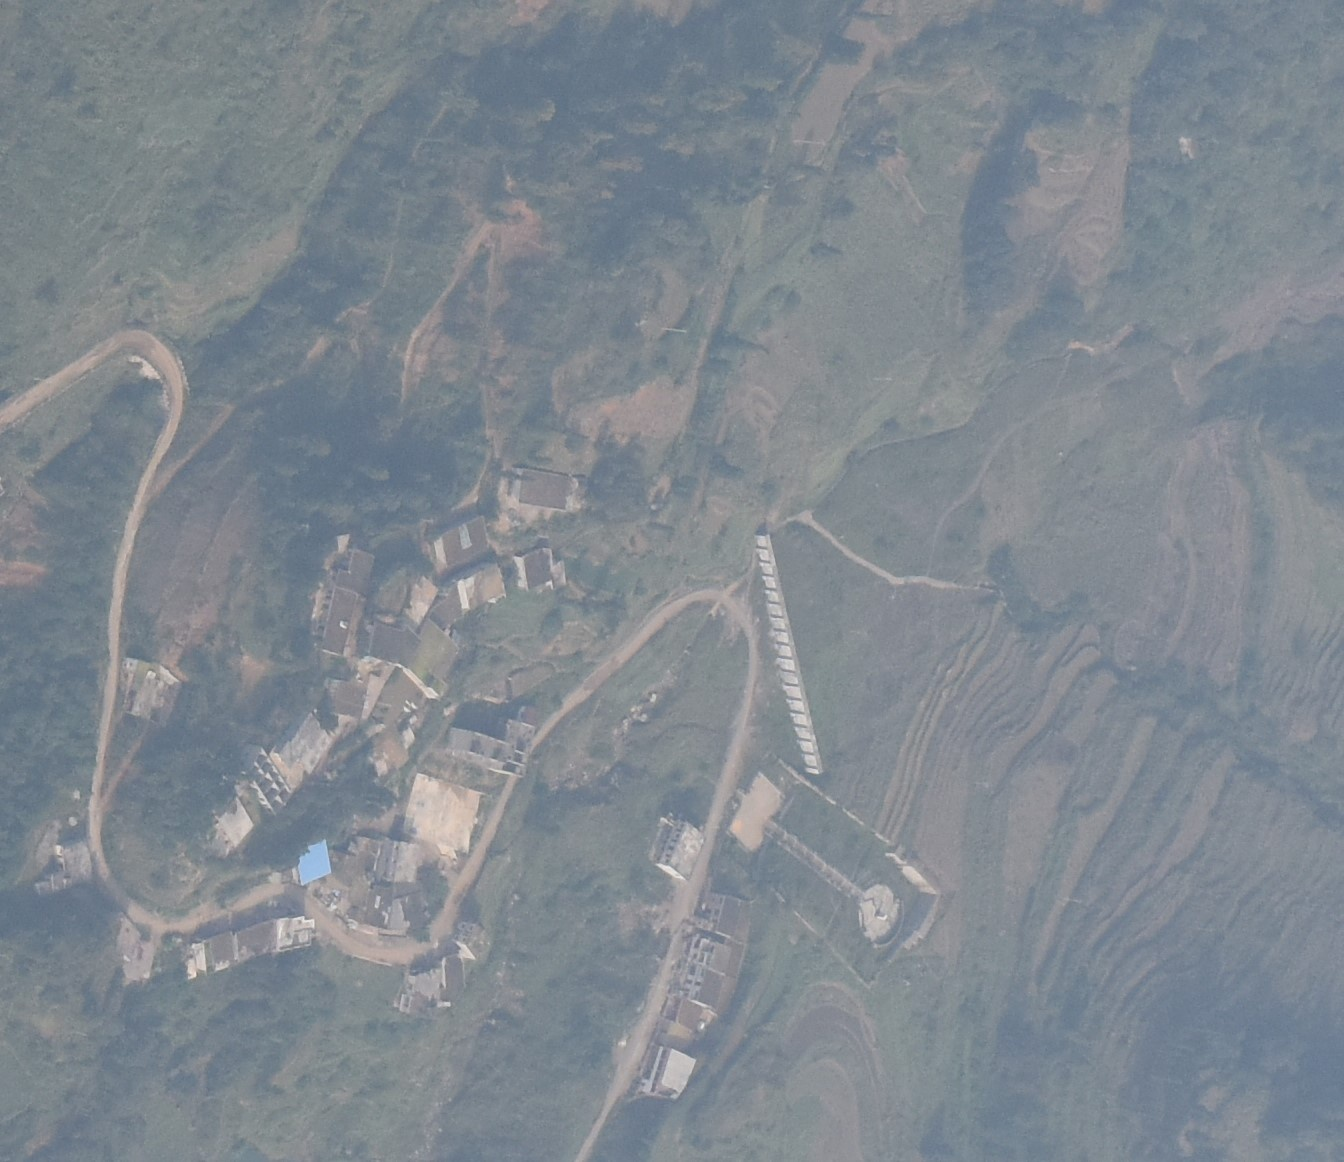building: (751, 532, 823, 774), (401, 774, 480, 852), (449, 719, 537, 782), (270, 711, 329, 788), (402, 619, 459, 696), (122, 657, 182, 726), (234, 744, 289, 815), (633, 1043, 697, 1099), (650, 816, 705, 879), (311, 588, 359, 656), (33, 840, 93, 893), (382, 572, 438, 627), (443, 562, 505, 611), (433, 515, 490, 564), (203, 798, 254, 851), (509, 466, 571, 508), (182, 928, 234, 978), (693, 892, 746, 941), (392, 968, 443, 1015), (329, 836, 377, 884), (513, 548, 565, 590), (672, 969, 725, 1008), (687, 931, 734, 973), (389, 882, 426, 933), (231, 915, 273, 960), (271, 907, 314, 949), (379, 840, 421, 882), (336, 548, 374, 594), (325, 678, 365, 718), (654, 1018, 698, 1053), (431, 949, 466, 994), (453, 921, 489, 960), (664, 996, 707, 1023)
prefabricated-house: (296, 840, 331, 882)
